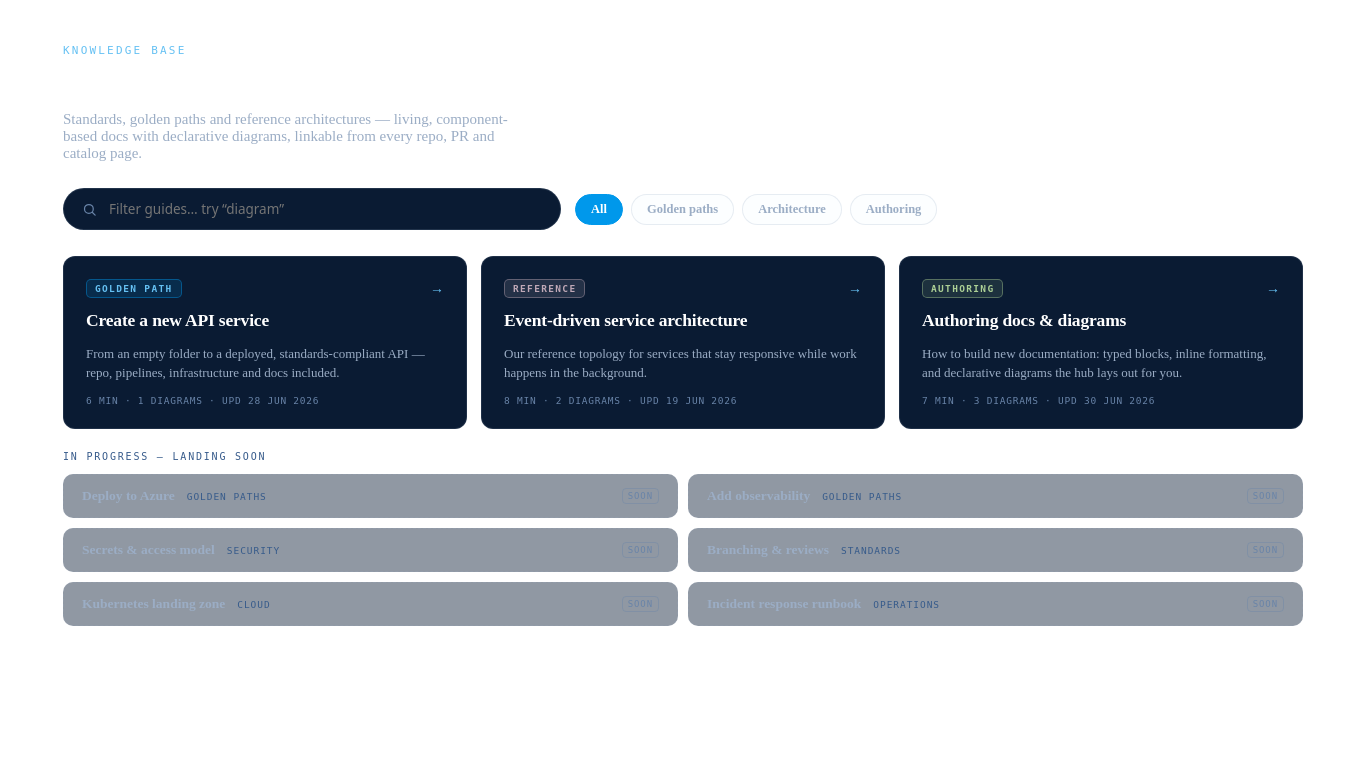
KbHomeScreen › filters cards and stubs by query (title + desc + category)
Type "diagram" into the field with placeholder "Filter guides… try “diagram”" at (324, 209), box [107,199,542,219]
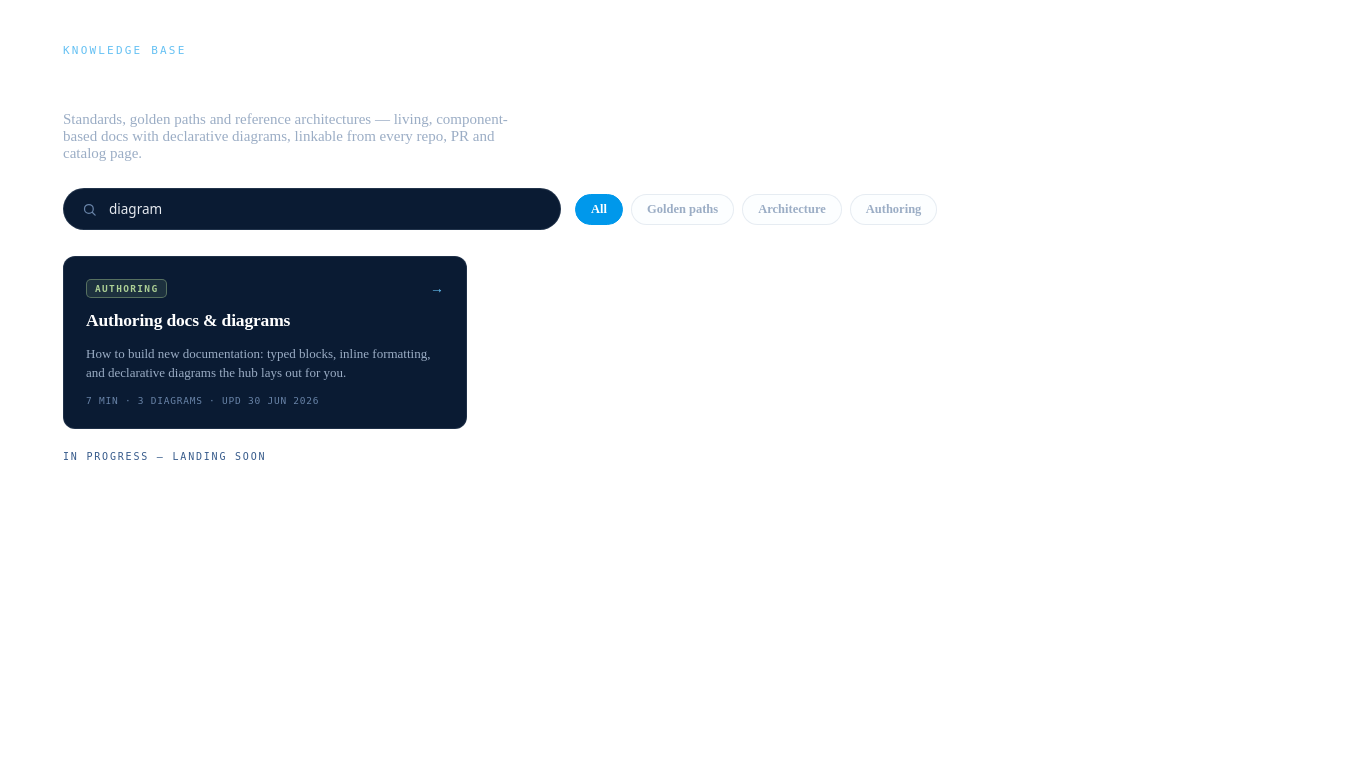
Result: the text "Create a new API service" is gone
Result: the text "Event-driven service architecture" is gone
Result: the text "Deploy to Azure" is gone
